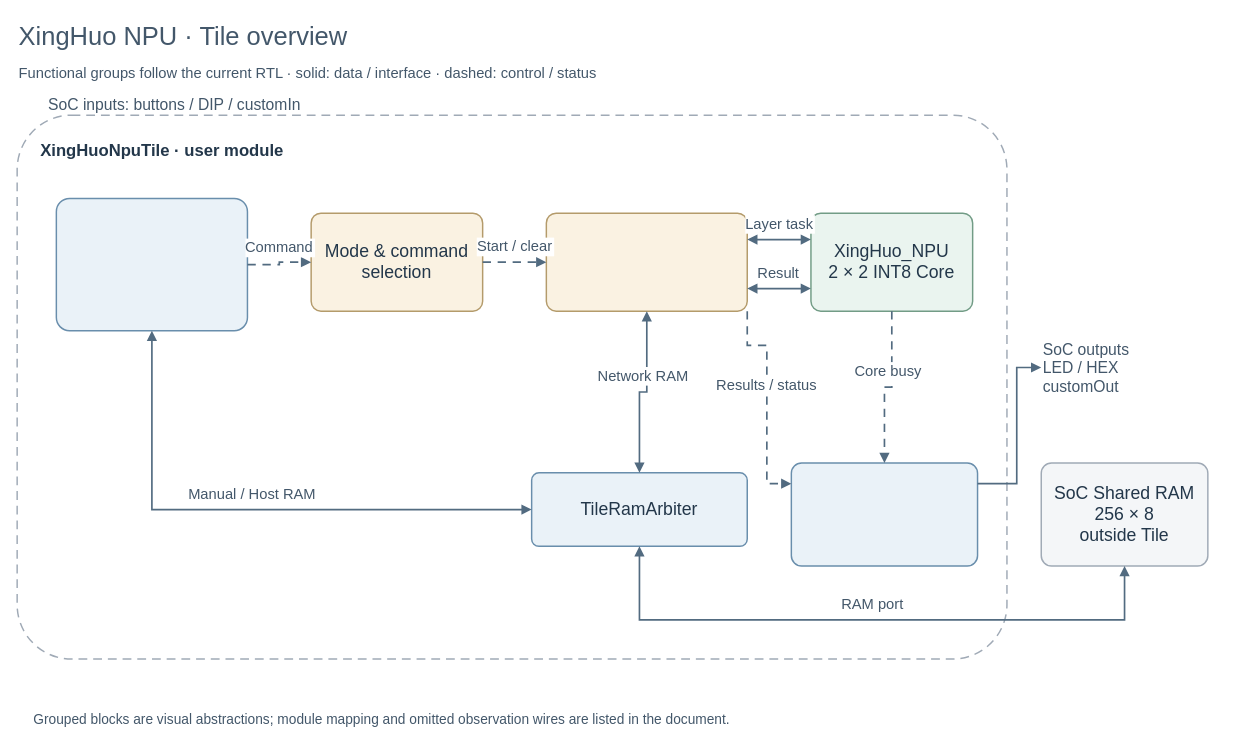
The diagram is 1235 pixels wide and 748 high, and some of its shapes have lost their labels. The centre of each missing label's shape, as x and y in pixels:
Display & response Page selection / packing: the point at 884,514
Input frontends CDC · debounce Manual / Host: the point at 151,264
XorNetworkController Two-layer sequencer: the point at 646,261
